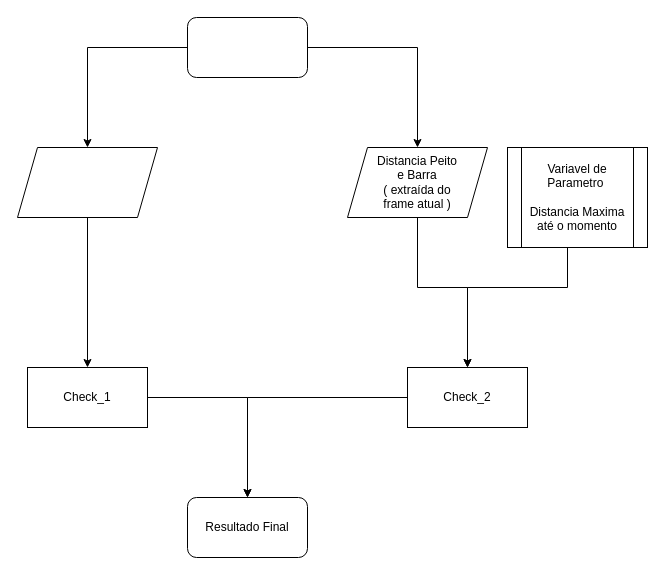
The diagram is 665 pixels wide and 575 high, and some of its shapes have lost their labels. The shapes that lost their labels are listed below. From the top down, each one's centre as x and y in pixels, then its label:
At point (247, 47): "Frame".
At point (87, 182): "Angulação Cotovelo ( extraída do frame atual )".
